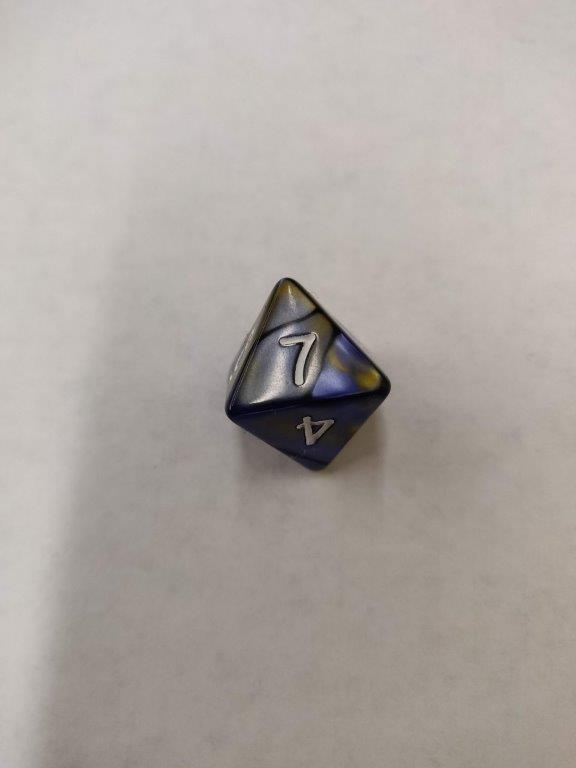d8-7: (223, 277, 392, 474)
